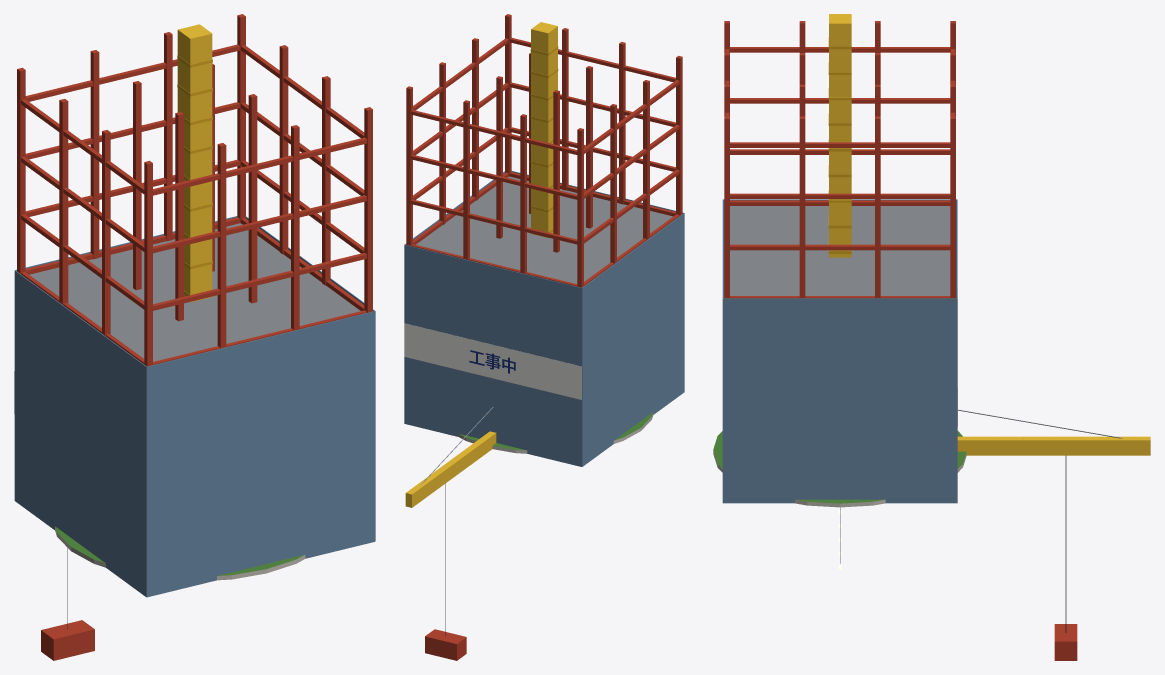
Rendered from city11.glb.
The picture shows the model from 3 angles, left to right: view 1: azimuth 30°, elevation 25°; view 2: azimuth 150°, elevation 25°; view 3: azimuth 270°, elevation 25°; orthographic projection. The views are drawn at different scales.
Parts seen in each view (by area): view 1: C11_Construction, C11_CraneMast, C11_CraneTop, C11_Roundabout; view 2: C11_Construction, C11_CraneMast, C11_CraneTop, C11_Roundabout; view 3: C11_Construction, C11_CraneMast, C11_CraneTop, C11_Roundabout.
Part boxes in pixels (bbox=[...]): C11_Construction: bbox=[14, 14, 375, 597]; C11_CraneMast: bbox=[177, 24, 212, 302]; C11_CraneTop: bbox=[41, 548, 94, 660]; C11_Roundabout: bbox=[55, 526, 305, 580]; C11_Construction: bbox=[404, 14, 684, 466]; C11_CraneMast: bbox=[530, 22, 558, 237]; C11_CraneTop: bbox=[405, 407, 496, 660]; C11_Roundabout: bbox=[459, 412, 653, 453]; C11_Construction: bbox=[722, 21, 957, 503]; C11_CraneMast: bbox=[828, 14, 851, 257]; C11_CraneTop: bbox=[957, 409, 1150, 660]; C11_Roundabout: bbox=[713, 431, 966, 507].
Bounding box in the file's own units: 21.13 × 49.5 × 31.
